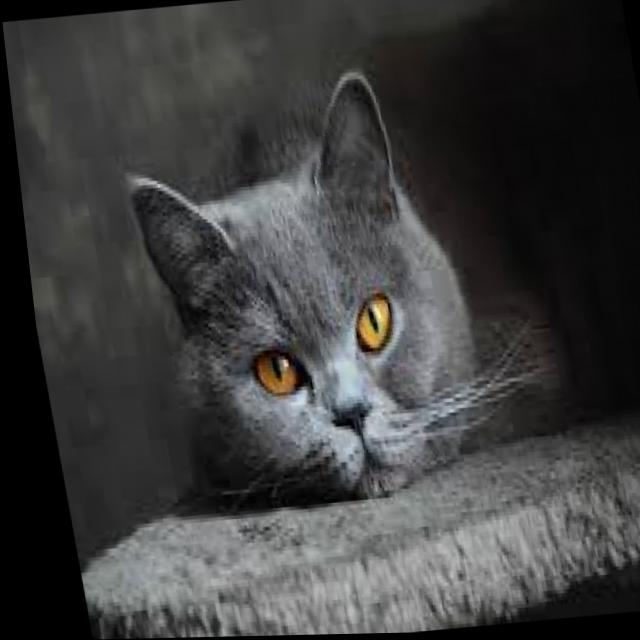cat: (96, 96, 549, 531)
